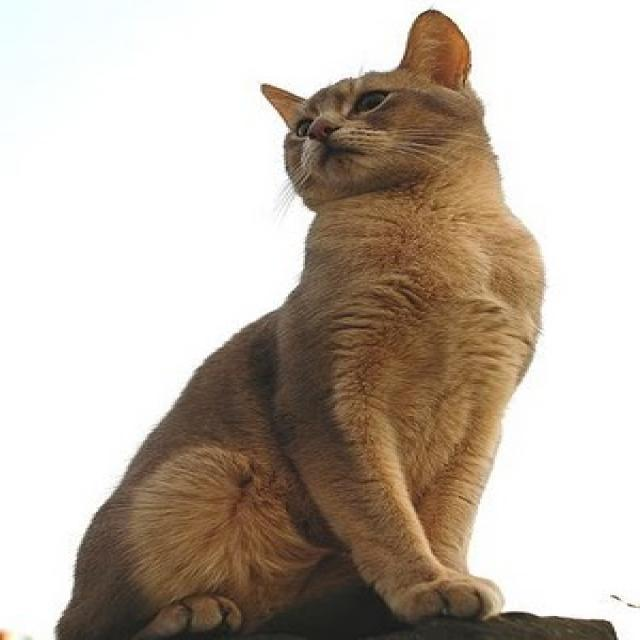Abyssinian: (247, 10, 496, 204)
